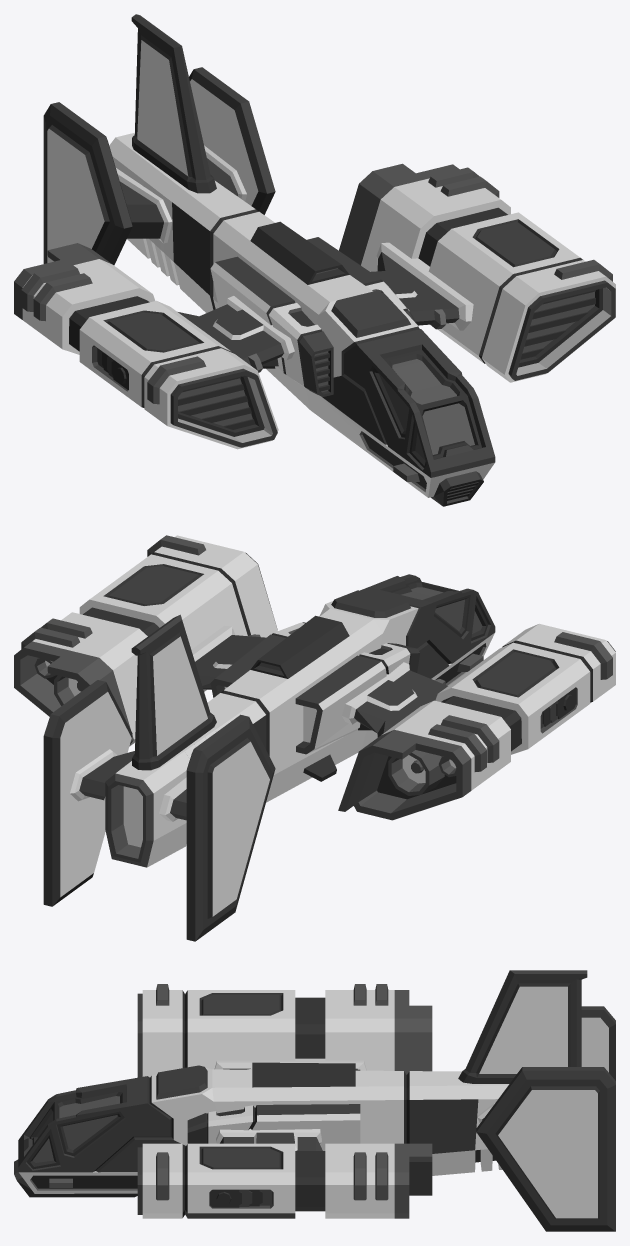
Rendered from space_ship.glb.
The picture shows the model from 3 angles, top to bottom: view 1: azimuth 30°, elevation 25°; view 2: azimuth 150°, elevation 25°; view 3: azimuth 270°, elevation 25°; orthographic projection. The views are drawn at different scales.
Visible parts, largest first — view 1: Sci-Fi Ship; view 2: Sci-Fi Ship; view 3: Sci-Fi Ship.
Boxes of the visible parts, bbox=[...] form: Sci-Fi Ship: bbox=[14, 14, 615, 506]; Sci-Fi Ship: bbox=[14, 535, 615, 941]; Sci-Fi Ship: bbox=[14, 970, 615, 1231].
Size of the model in its own units: 2.83 by 1.55 by 3.69.
1 material, 1 textured.
